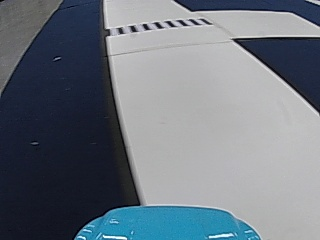CrossWalk: (112, 15, 207, 35)
